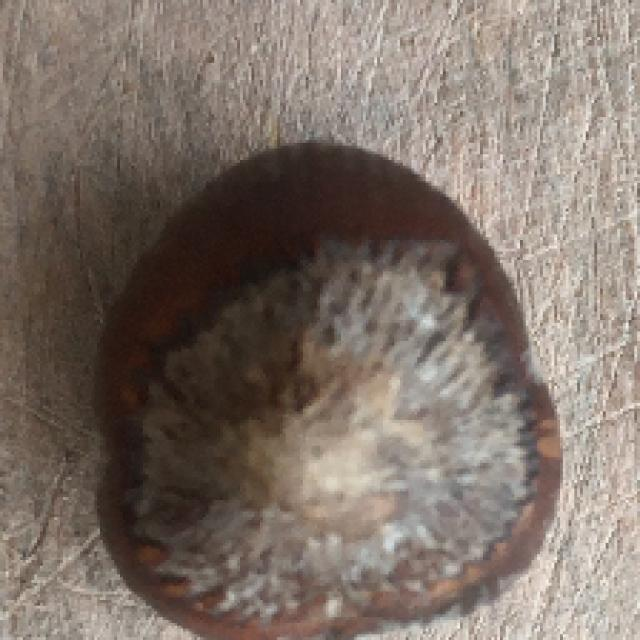damagedHazelnut: (94, 151, 566, 640)
